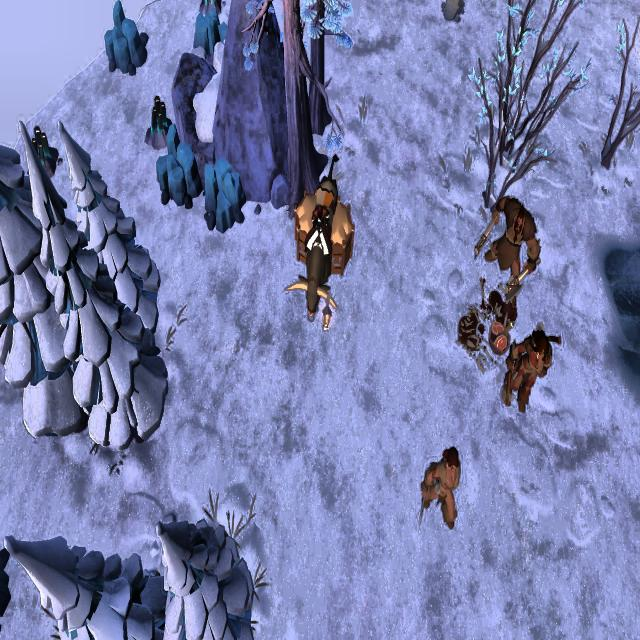enemy_factionKeeper: (477, 188, 537, 295), (501, 327, 559, 422), (415, 440, 464, 532)
ore_t4: (28, 121, 52, 165), (150, 89, 167, 132)
rock_t4: (154, 124, 201, 213), (103, 1, 149, 84), (202, 155, 246, 232), (189, 10, 231, 63)
